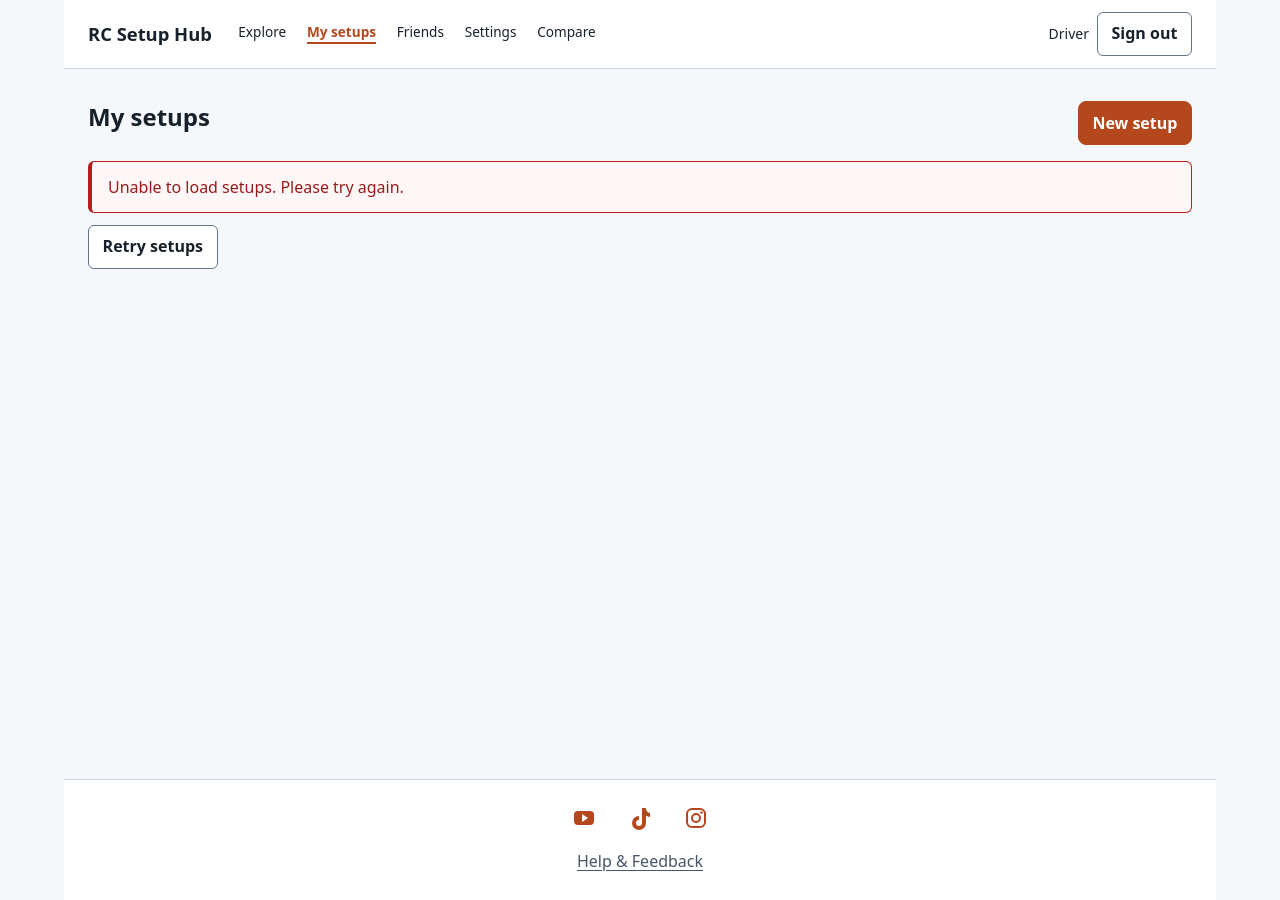
retries server list failure
Expected: the message shows "Unable to load setups", [108,176,404,198]
Click the button "Retry setups": (153, 247) [88,225,218,269]
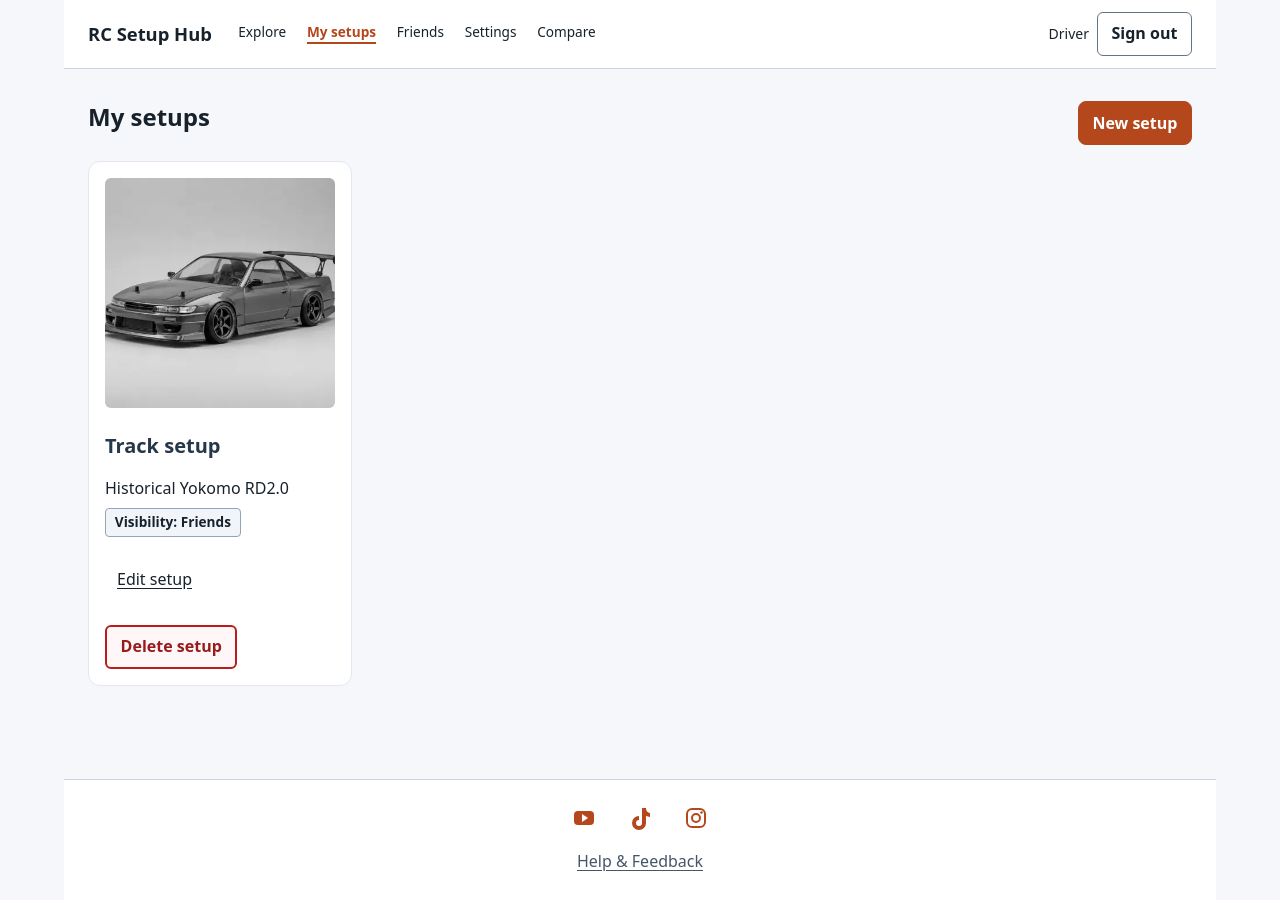
Now the link "Track setup" is shown, box [105,424,220,468]
